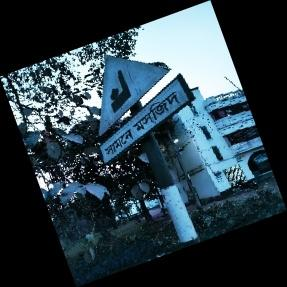Mosque in front: (91, 54, 196, 164)
